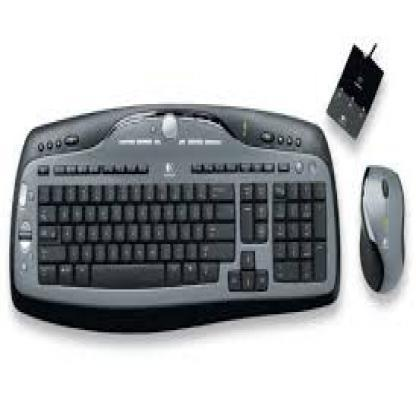keyboard: (10, 100, 344, 337)
